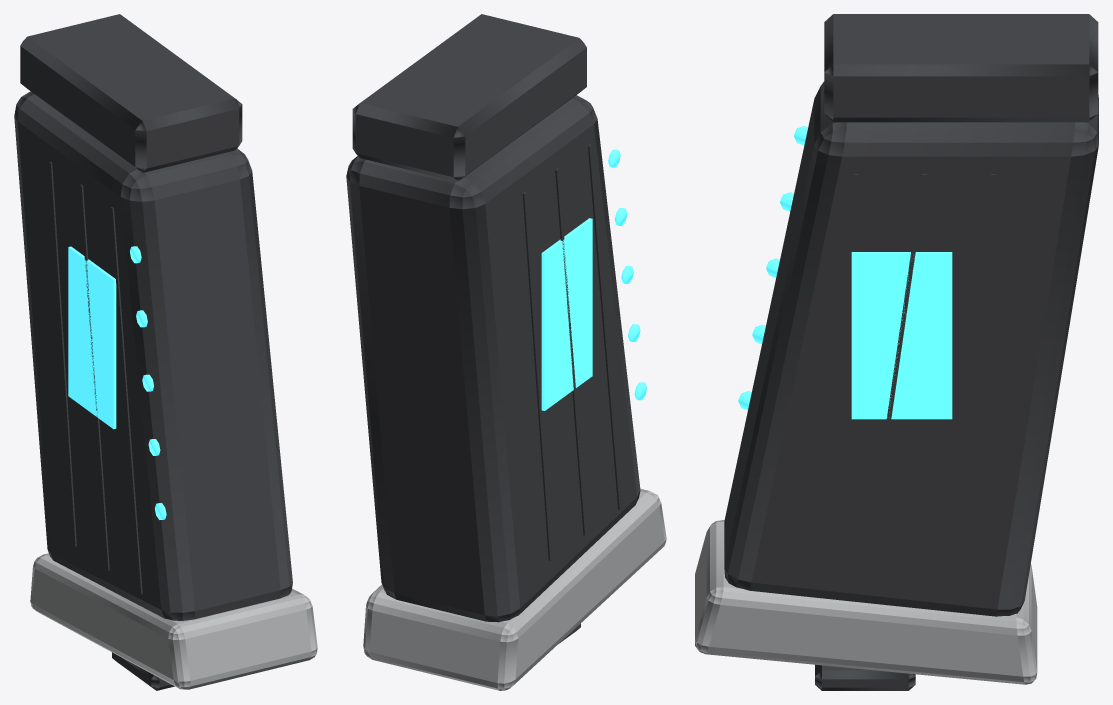
File: SM_SB_BattleRifle_Mag.fbx
3 views of the same model, side by side, from view 1: azimuth 30°, elevation 25°; view 2: azimuth 150°, elevation 25°; view 3: azimuth 270°, elevation 25° (orthographic). The views are drawn at different scales.
Parts seen in each view (by area): view 1: SM_SB_BattleRifle_Mag; view 2: SM_SB_BattleRifle_Mag; view 3: SM_SB_BattleRifle_Mag.
Part boxes in pixels (x1=…): SM_SB_BattleRifle_Mag: x1=14, y1=14, x2=317, y2=690; SM_SB_BattleRifle_Mag: x1=346, y1=14, x2=666, y2=690; SM_SB_BattleRifle_Mag: x1=695, y1=14, x2=1098, y2=690.
Size of the model in its own units: 4 by 8.84 by 15.25.
